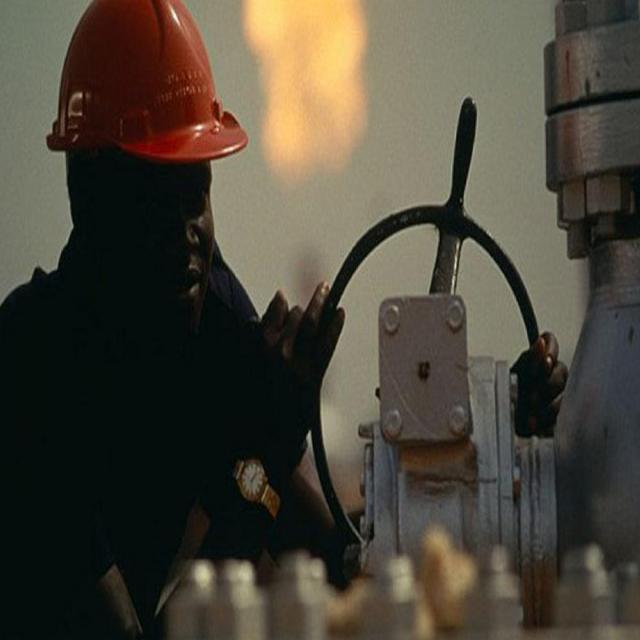Safety-Helmet: (40, 0, 246, 174)
